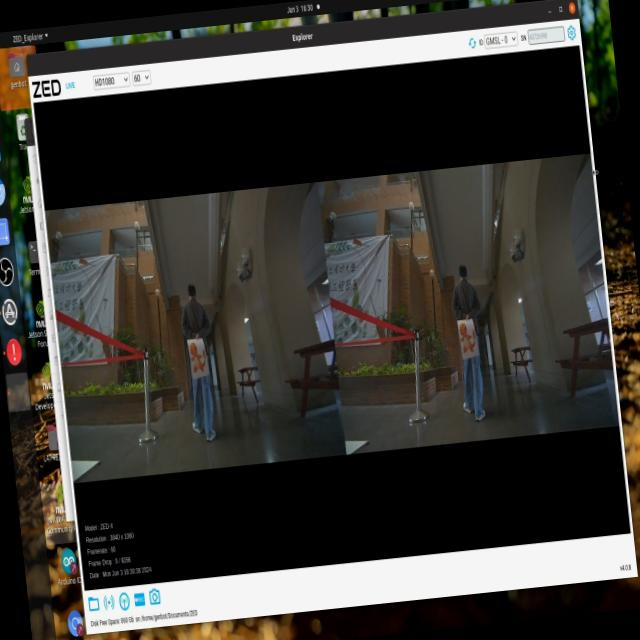red: (456, 318, 478, 360), (186, 343, 208, 379)
